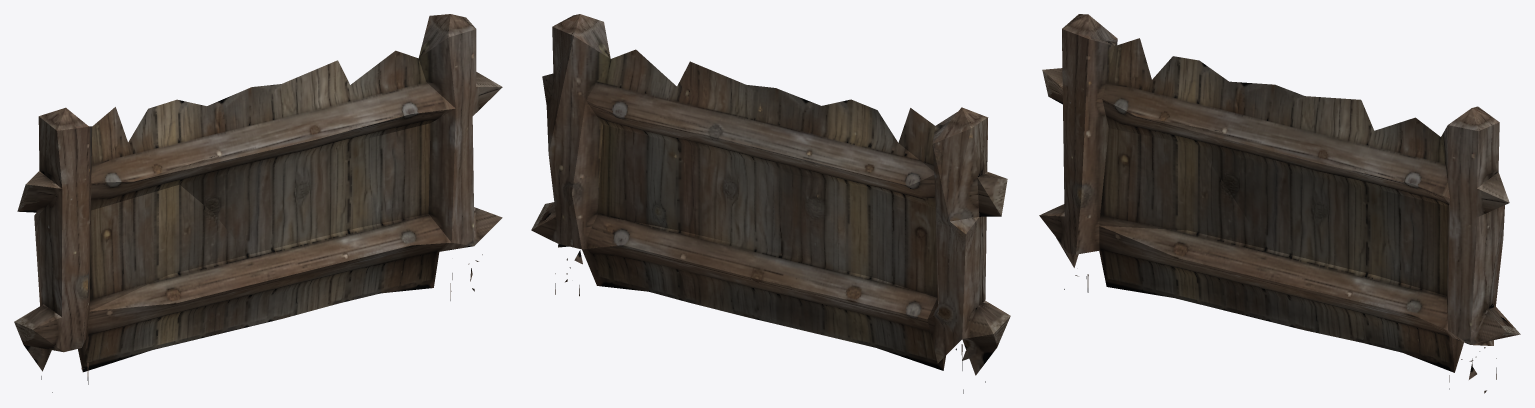
File: westfall_fence_lod0.glb
3 renders of one model, left to right at view 1: azimuth 30°, elevation 25°; view 2: azimuth 150°, elevation 25°; view 3: azimuth 330°, elevation 25°, orthographic.
Parts seen in each view (by area): view 1: low; view 2: low; view 3: low.
Boxes of the visible parts, x1=… form: low: x1=14, y1=14, x2=502, y2=392; low: x1=531, y1=14, x2=1010, y2=393; low: x1=1039, y1=14, x2=1520, y2=393.
Size of the model in its own units: 3.02 by 1.7 by 0.3751.
Materials: 1 (1 with a texture image).
